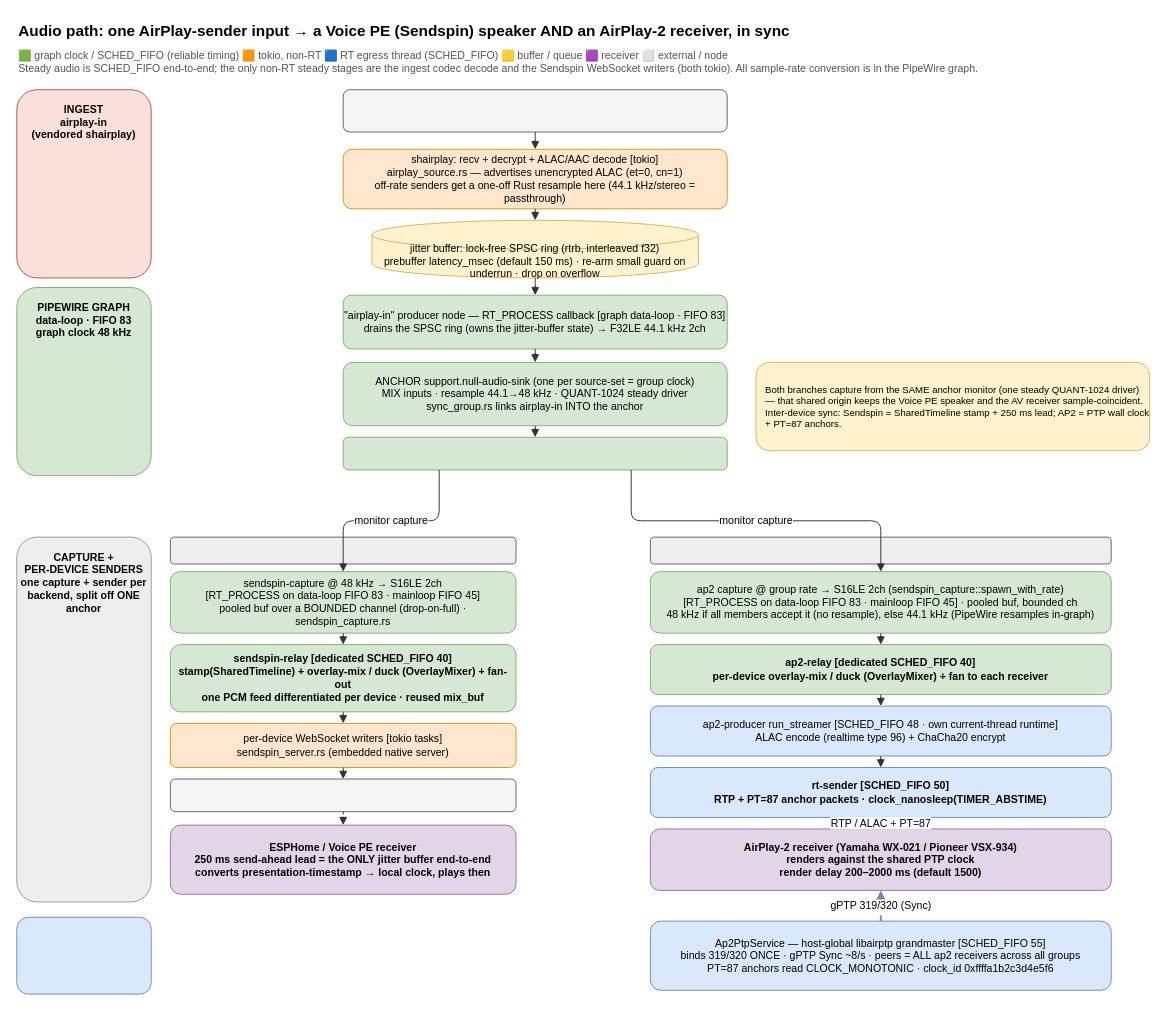
This 1166x1011 diagram has some shape labels left out. The centre of each missing label's shape, as x and y in pixels:
AirPlay sender (phone / Mac / PipeWire host) RTP/RTSP over WiFi: [534,110]
AIRPLAY-2 sender → AV receiver: [880,550]
anchor MONITOR ports (48 kHz): [534,453]
PTP CLOCK host-global grandmaster: [83,955]
SENDSPIN sender → Voice PE: [342,550]
WebSocket / TCP → WiFi: [342,795]
